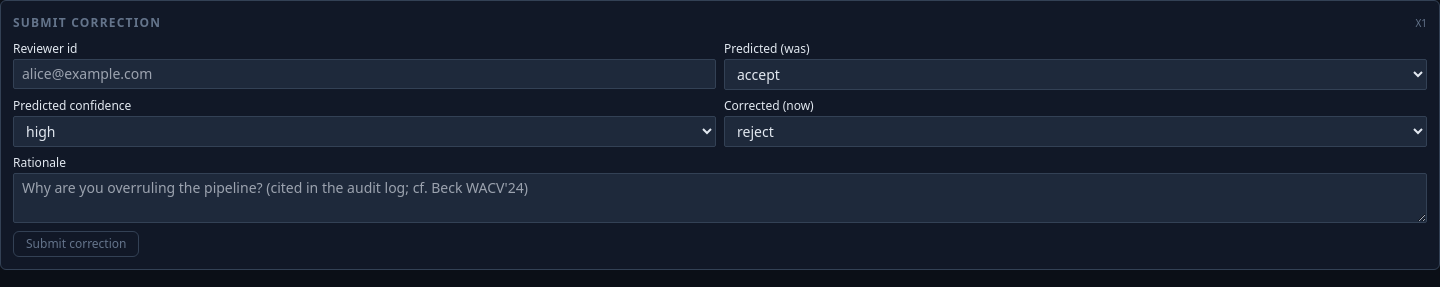
HitlCorrectionForm › clears rationale and corrected value after a successful submit
Type "bob" into the field with test id "hitl-reviewer-id".
click(364, 74); type("bob")  # box left=13, top=59, right=716, bottom=89
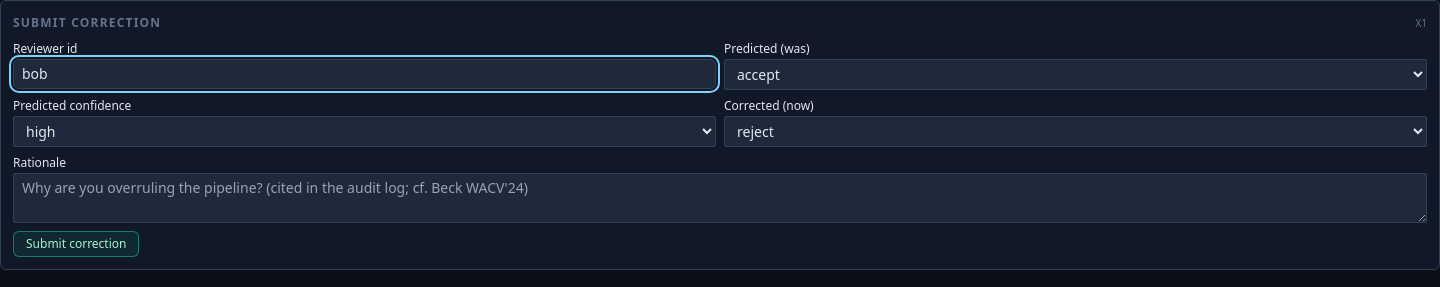
Type "first" into the text box with test id "hitl-rationale".
click(720, 198); type("first")  # box left=13, top=173, right=1427, bottom=223
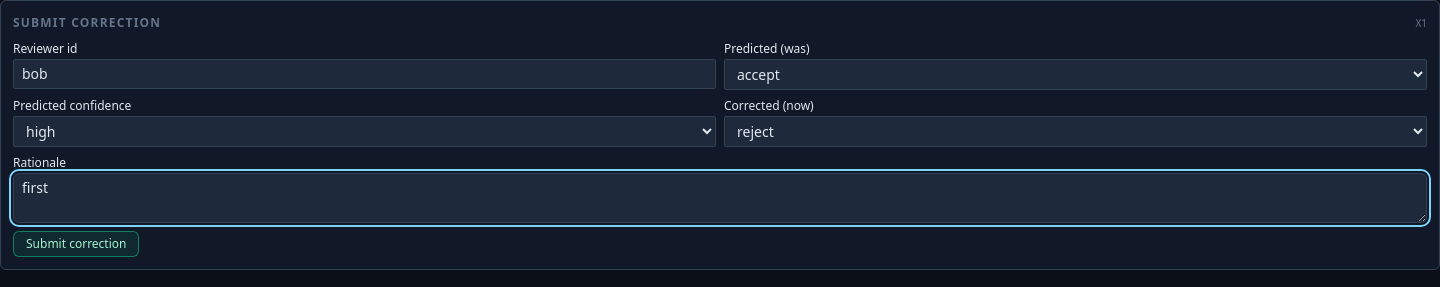
Click the button with test id "hitl-submit-button".
click(76, 244)  # box left=13, top=231, right=140, bottom=257
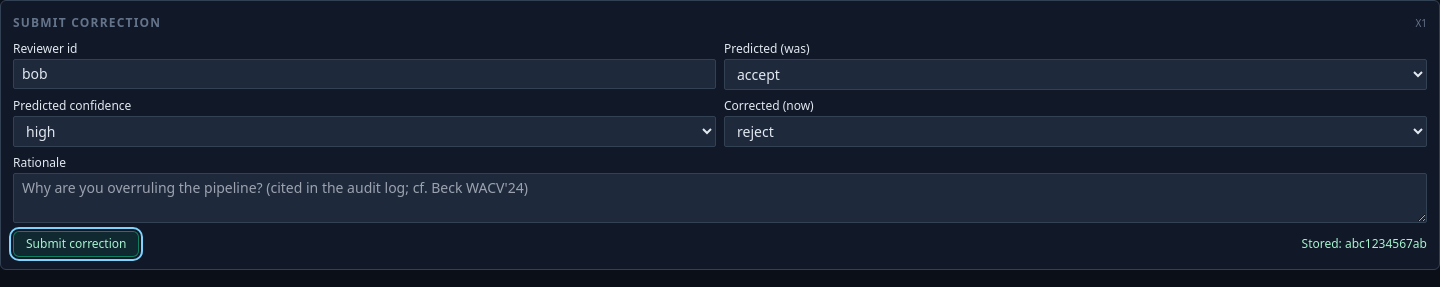
Expected: the text "Stored: abc1234567ab" is shown, left=1302, top=236, right=1427, bottom=252
Expected: the text box with test id "hitl-rationale" is empty, left=13, top=173, right=1427, bottom=223
